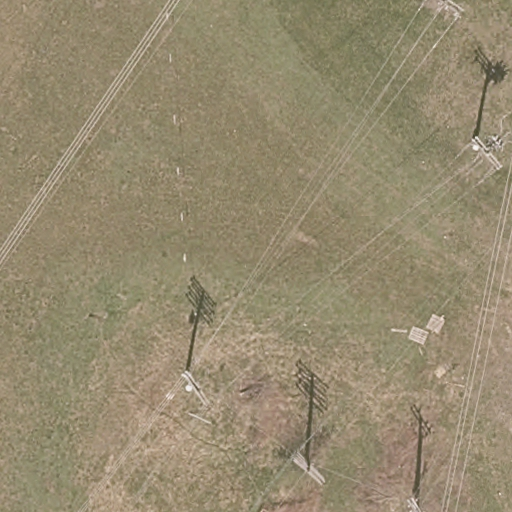DT: (175, 368, 215, 411), (292, 451, 327, 490), (469, 134, 503, 173)
